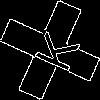K: (25, 25, 81, 75)
